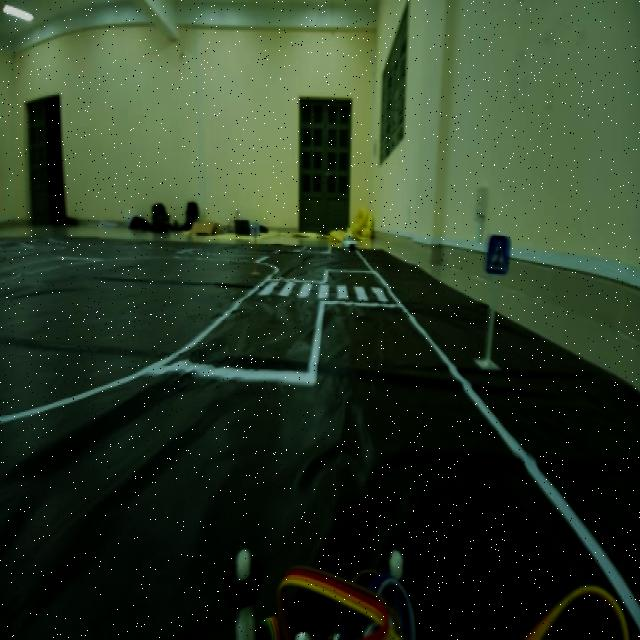crosswalk: (477, 222, 519, 284)
